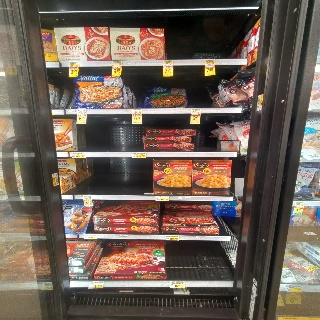All PRICE TAGS: (89, 281, 103, 288), (170, 281, 184, 288), (71, 152, 86, 158), (132, 152, 145, 158), (84, 234, 96, 239), (166, 236, 178, 241), (155, 196, 169, 200), (162, 60, 173, 65), (69, 61, 79, 66), (205, 60, 215, 65), (191, 108, 201, 113), (295, 202, 304, 207), (77, 109, 86, 114), (112, 61, 122, 65), (82, 195, 92, 199), (132, 109, 141, 113)
